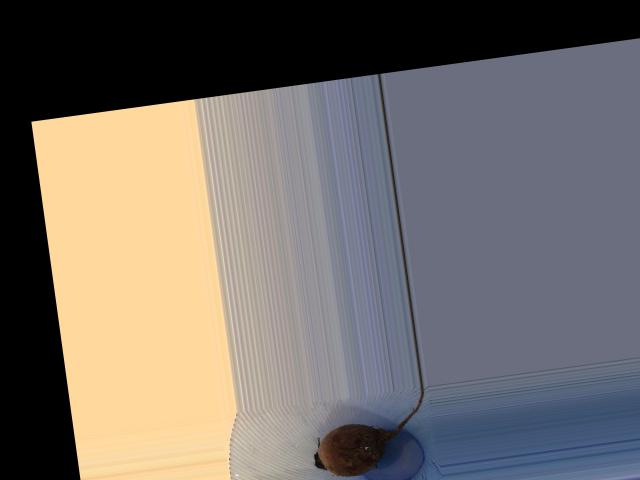beet: (305, 385, 433, 480)
